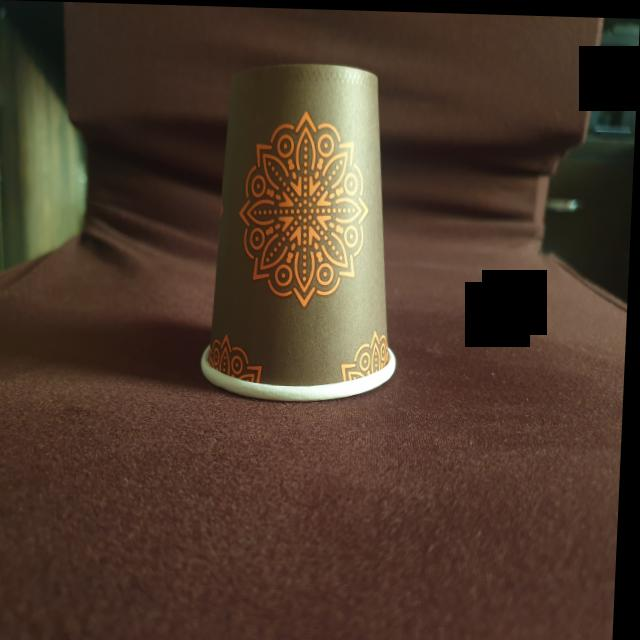cups: (198, 51, 415, 414)
